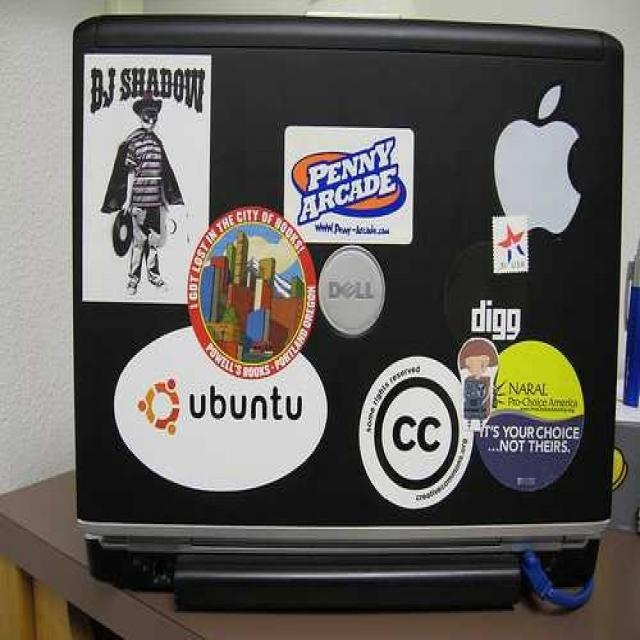laptop: (50, 18, 626, 603)
